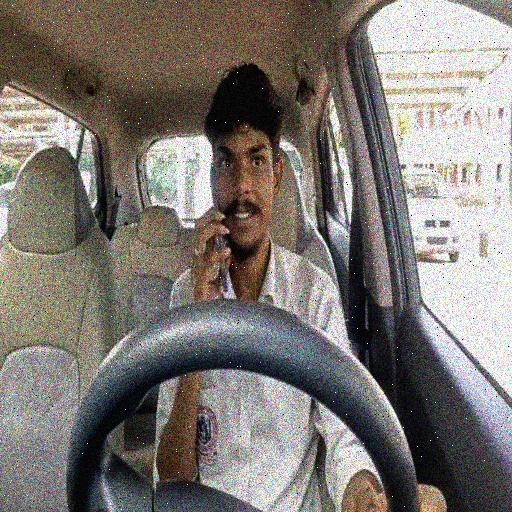Talking_on_phone: (185, 62, 286, 316)
